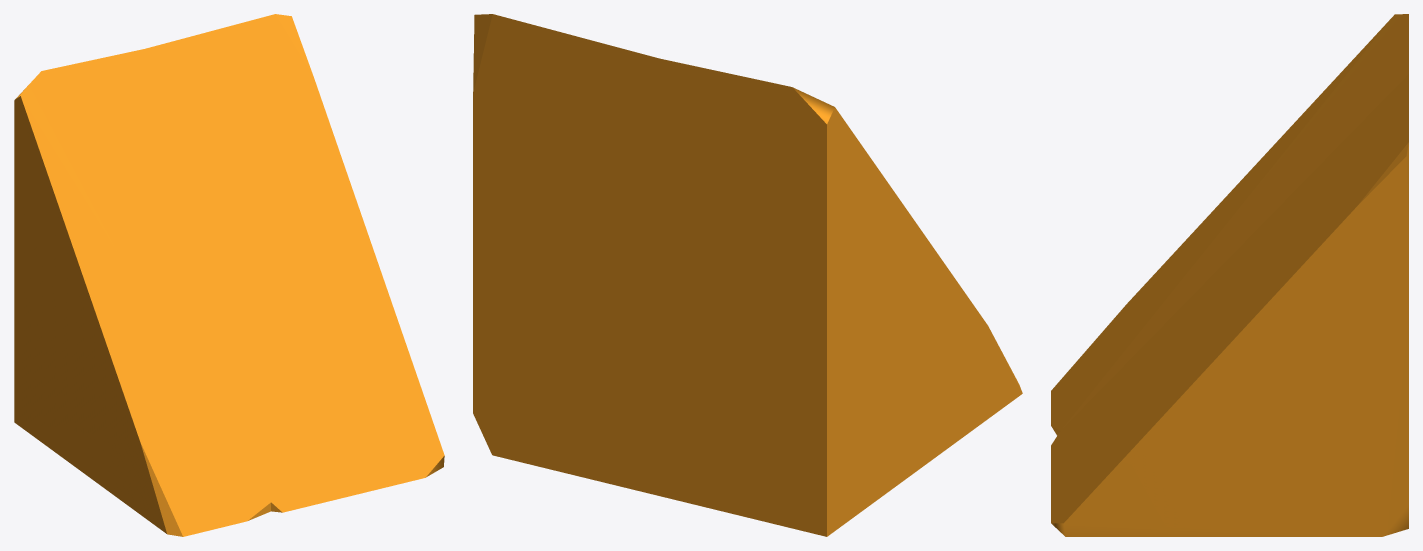
File: SM_Buildings_Ramp_50_1x1_01P.fbx
3 renders of one model, left to right at view 1: azimuth 30°, elevation 25°; view 2: azimuth 150°, elevation 25°; view 3: azimuth 270°, elevation 25°, orthographic. The views are drawn at different scales.
Parts seen in each view (by area): view 1: SM_Buildings_Ramp_50_1x1_01P; view 2: SM_Buildings_Ramp_50_1x1_01P; view 3: SM_Buildings_Ramp_50_1x1_01P.
Part boxes in pixels (bbox=[...]): SM_Buildings_Ramp_50_1x1_01P: bbox=[14, 14, 444, 536]; SM_Buildings_Ramp_50_1x1_01P: bbox=[473, 14, 1022, 536]; SM_Buildings_Ramp_50_1x1_01P: bbox=[1051, 14, 1408, 536].
Size of the model in its own units: 100 by 119 by 100.
